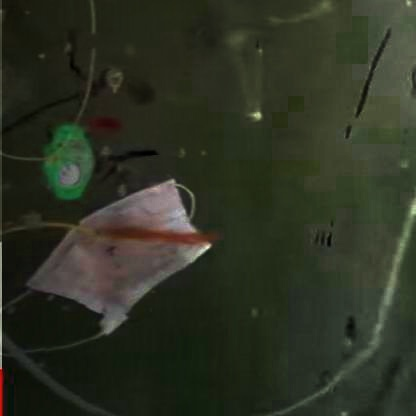Mask: (14, 179, 221, 357)
